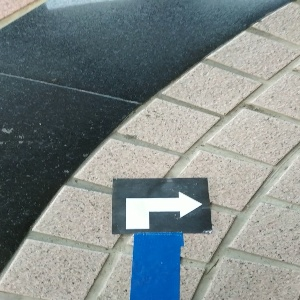right: (113, 179, 209, 233)
